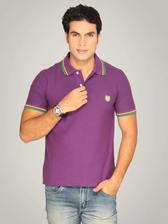clothoes: (23, 53, 147, 190)
